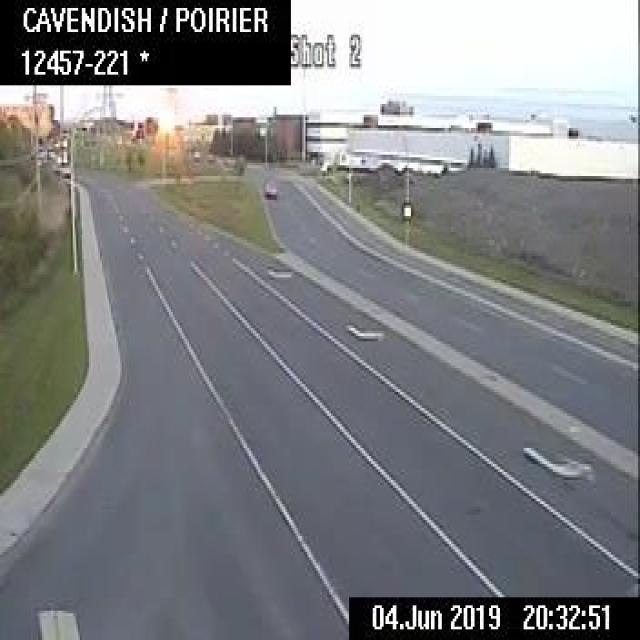vehicle: (262, 182, 274, 198)
